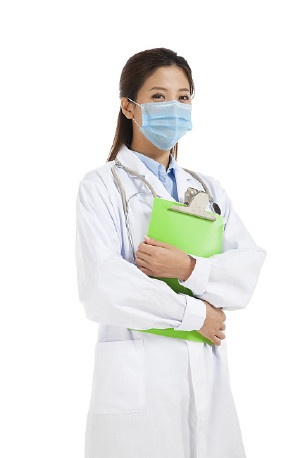Mask: (135, 84, 204, 153)
